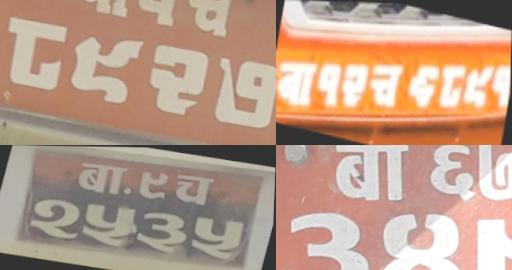0: (326, 145, 414, 208)
1: (315, 60, 346, 106), (490, 60, 511, 104)
2: (136, 35, 215, 123), (23, 193, 87, 246), (339, 58, 369, 107)
3: (130, 206, 195, 256)
4: (423, 145, 484, 200)
5: (364, 201, 478, 270), (184, 213, 252, 266), (77, 199, 142, 251), (126, 0, 187, 32)
6: (407, 60, 442, 106)
7: (205, 47, 276, 134), (466, 145, 512, 204)
8: (0, 5, 77, 97), (436, 60, 468, 107)
9: (62, 22, 147, 112), (462, 59, 496, 106), (134, 165, 174, 203)
ba: (276, 203, 379, 270), (72, 160, 132, 199), (276, 56, 319, 106), (64, 0, 140, 20)
cha: (174, 0, 246, 44), (168, 170, 218, 210), (368, 57, 404, 111)
lu: (460, 201, 512, 270)
